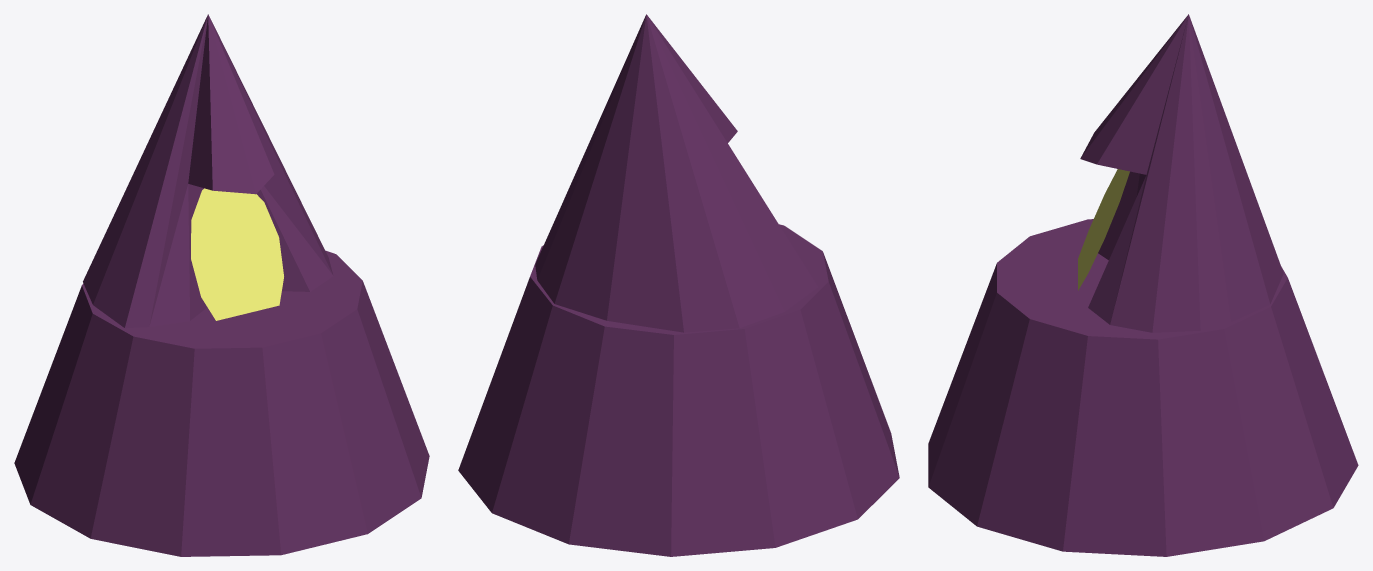
Rendered from evil_hill.fbx.
The picture shows the model from 3 angles, left to right: view 1: azimuth 30°, elevation 25°; view 2: azimuth 150°, elevation 25°; view 3: azimuth 270°, elevation 25°; orthographic projection. The views are drawn at different scales.
Parts seen in each view (by area): view 1: hill; view 2: hill; view 3: hill.
Boxes of the visible parts, box(x1,y1,x2,y2) form: hill: box(14, 14, 429, 556); hill: box(458, 14, 899, 556); hill: box(928, 14, 1358, 556).
Size of the model in its own units: 77.22 by 89.63 by 76.66.
